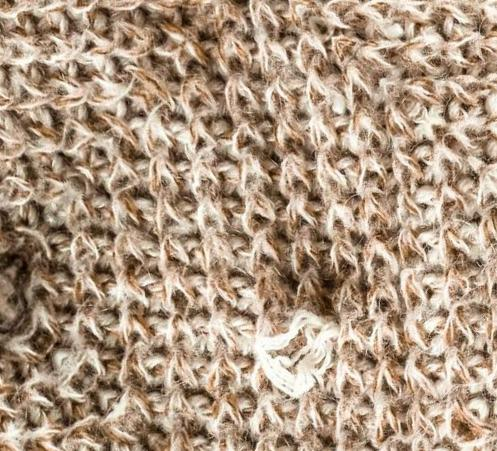snag: (243, 294, 342, 401)
